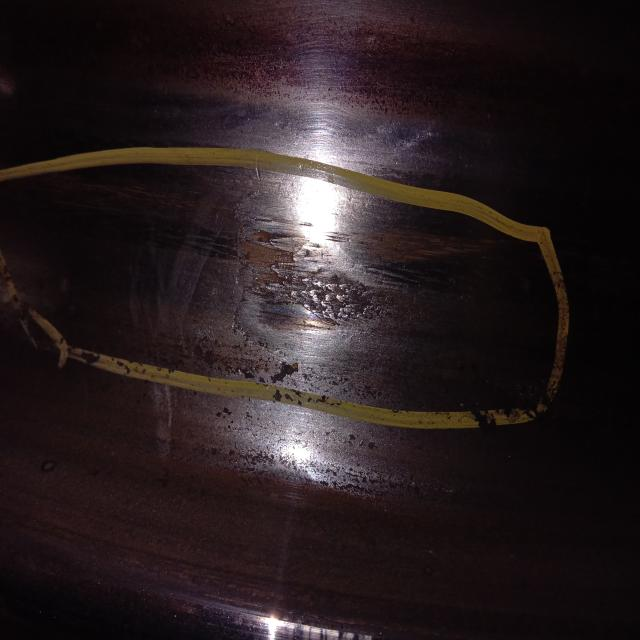Peeling: (154, 179, 413, 373), (293, 445, 467, 511)
